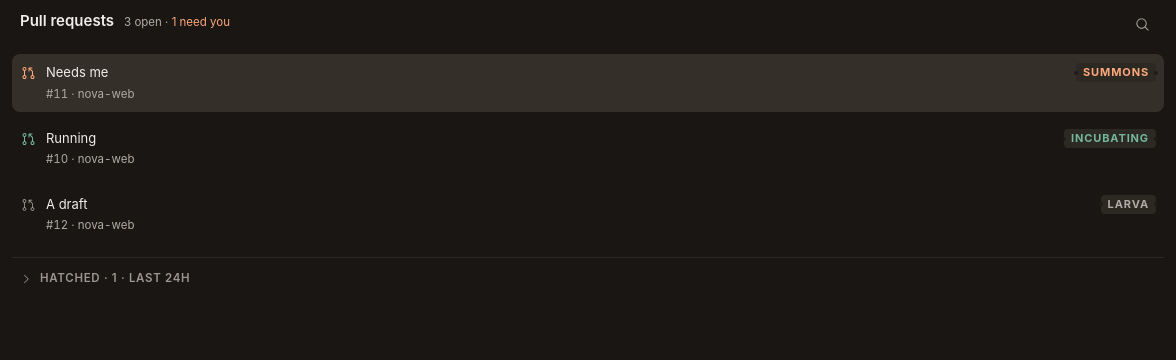
Test: PrsPanel (the Hatchery) › folds the merged ones under HATCHED, folded by default
The image size is (1176, 360).
Expected: the text "Landed" is not shown
Click the button "Hatched · 1 · last 24h": point(115, 278) left=12, top=257, right=1164, bottom=292
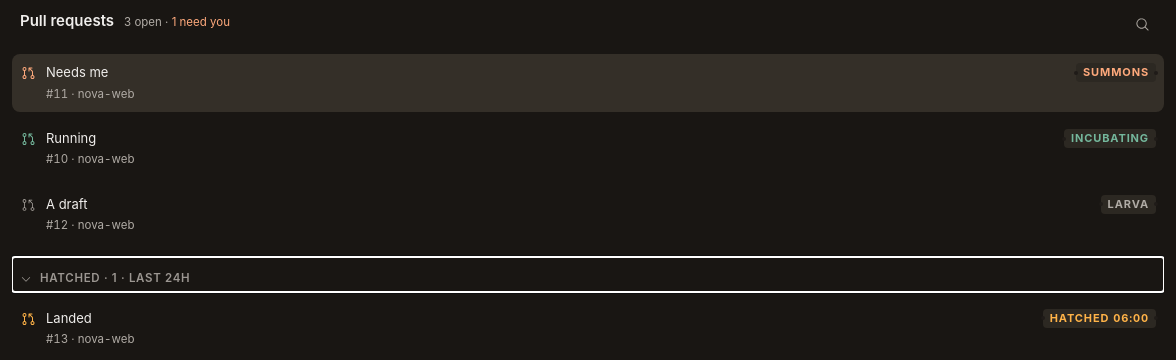
Expected: the text "Landed" is shown, left=46, top=310, right=92, bottom=326
